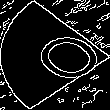O_SE: (8, 21, 102, 89)
